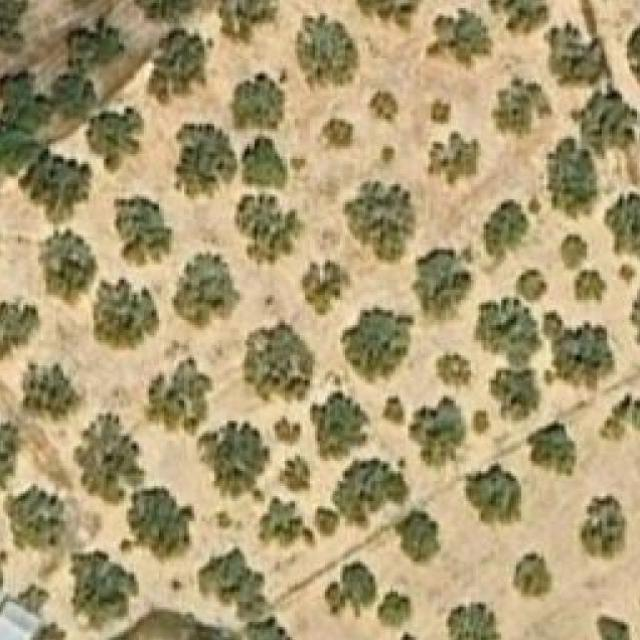Tree: (72, 411, 146, 506), (119, 486, 197, 565), (196, 421, 272, 501), (244, 323, 317, 404), (339, 305, 413, 383), (540, 310, 614, 388), (342, 182, 413, 263), (174, 252, 243, 330), (290, 13, 358, 92), (332, 458, 411, 526), (234, 194, 305, 268), (70, 551, 136, 630), (196, 548, 270, 617), (148, 358, 211, 439), (94, 278, 162, 351), (38, 229, 99, 310), (173, 124, 237, 199), (473, 298, 538, 371), (113, 194, 176, 268), (546, 143, 602, 220), (426, 8, 494, 71), (407, 395, 466, 466), (410, 250, 473, 315), (149, 28, 204, 102), (463, 463, 521, 531), (543, 21, 602, 87), (8, 486, 68, 549), (575, 89, 634, 152), (310, 393, 368, 457), (493, 76, 552, 137), (254, 496, 317, 552), (20, 362, 79, 421), (35, 154, 89, 217), (579, 493, 627, 562), (231, 71, 285, 132), (65, 21, 124, 72), (488, 368, 543, 422), (0, 73, 54, 128), (324, 559, 377, 615), (428, 132, 481, 187), (302, 257, 352, 315), (0, 296, 42, 362), (220, 0, 278, 46), (95, 112, 144, 165), (483, 202, 528, 258), (528, 424, 574, 477), (241, 137, 287, 187), (511, 549, 552, 603), (488, 0, 549, 36), (397, 511, 438, 562), (445, 602, 498, 640), (607, 192, 640, 253), (600, 392, 640, 442), (355, 0, 421, 30), (53, 78, 99, 116), (0, 414, 23, 489), (121, 0, 191, 23), (436, 348, 476, 386), (0, 0, 28, 53), (574, 265, 606, 310), (277, 456, 310, 499), (516, 267, 548, 305), (589, 614, 634, 640), (317, 119, 352, 152), (558, 235, 588, 272), (378, 592, 410, 625), (368, 92, 398, 126), (247, 619, 291, 640), (272, 418, 302, 448), (372, 139, 400, 170), (380, 396, 406, 426), (315, 510, 343, 534), (431, 98, 451, 124), (473, 411, 491, 434), (619, 264, 637, 284)
